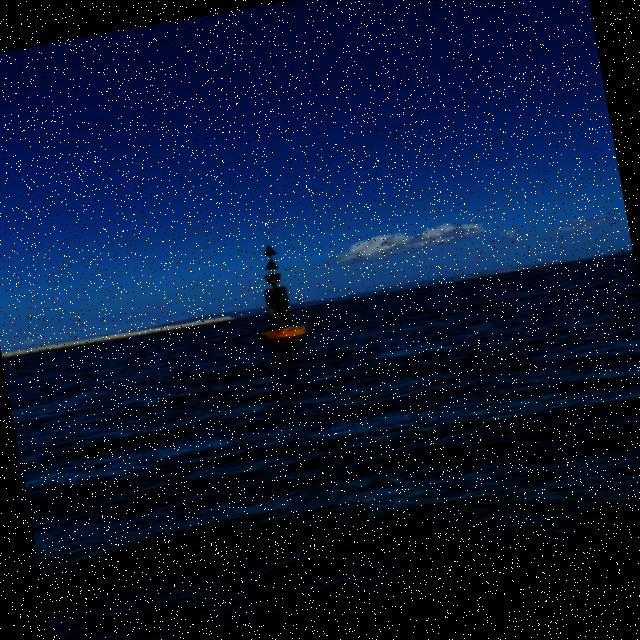marque: (245, 243, 306, 348)
